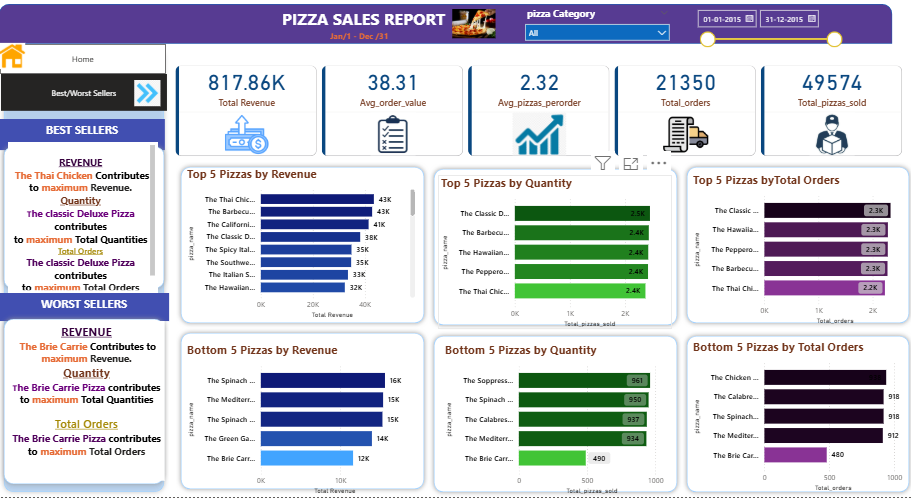

The dashboard page shown, as its layout file describes it:
{"tool":"powerbi","page":{"name":"Best/Worst  Sellers","canvas":[1500,820],"ordinal":1},"visuals":[{"type":"cardVisual","fields":{"Data":["pizza_sales.Total Revenue","pizza_sales.Avg_order_value","pizza_sales.Avg_pizzas_perorder","pizza_sales.Total_order","pizza_sales.Total_pizzas_sold"]},"box":[272.2,95.1,1228.4,183.7],"z":0},{"type":"shape","box":[0,11.2,1465,65],"z":1000},{"type":"textbox","box":[378.8,11.2,438.8,65],"z":2000},{"type":"textbox","box":[537.5,50,148.8,51.2],"z":3000},{"type":"image","box":[677.5,20,202.5,47.5],"z":4000},{"type":"shape","box":[290.3,270.6,414.9,272.2],"z":5000},{"type":"shape","box":[0,77.1,278.8,742.9],"z":6000},{"type":"textbox","box":[0,200.1,272.2,50.8],"z":7000},{"type":"shape","box":[0,237.8,278.8,247.6],"z":8000},{"type":"textbox","box":[14.8,237.8,246,247.6],"z":9000},{"type":"textbox","box":[0,485.4,278.8,45.9],"z":10000},{"type":"shape","box":[0,519.9,278.8,287],"z":11000},{"type":"textbox","box":[14.8,531.4,257.5,262.4],"z":12000},{"type":"slicer","fields":{"Values":["pizza_sales.pizza_category"]},"box":[852.8,11.5,257.5,64],"z":13000},{"type":"slicer","fields":{"Values":["pizza_sales.order_date"]},"box":[1133.2,11.5,257.5,83.6],"z":14000},{"type":"shape","box":[705.2,273.9,414.9,272.2],"z":15000},{"type":"shape","box":[1120.1,270.6,380.5,272.2],"z":16000},{"type":"shape","box":[290.3,542.8,414.9,272.2],"z":17000},{"type":"shape","box":[705.2,547.8,414.9,272.2],"z":18000},{"type":"shape","box":[1120.1,547.8,380.5,272.2],"z":19000},{"type":"barChart","title":"Top 5 Pizzas by Revenue","fields":{"Category":["pizza_sales.pizza_name"],"Y":["pizza_sales.Total Revenue"]},"box":[303.1,277.6,383.9,253.9],"z":20000},{"type":"barChart","title":"Bottom 5 Pizzas by Revenue","fields":{"Category":["pizza_sales.pizza_name"],"Y":["pizza_sales.Total Revenue"]},"box":[303.4,565.8,383.8,254.2],"z":21000},{"type":"barChart","title":"Top 5 Pizzas by Quantity","fields":{"Category":["pizza_sales.pizza_name"],"Y":["pizza_sales.Total_pizzas_sold"]},"box":[720.5,291.3,383.9,253.9],"z":22000},{"type":"barChart","title":"Bottom 5 Pizzas by Quantity","fields":{"Category":["pizza_sales.pizza_name"],"Y":["pizza_sales.Total_pizzas_sold"]},"box":[726.5,565.8,383.8,254.2],"z":23000},{"type":"barChart","title":"Top 5 Pizzas byTotal Orders","fields":{"Category":["pizza_sales.pizza_name"],"Y":["pizza_sales.Total_orders"]},"box":[1133.9,287.4,366.1,253.9],"z":24000},{"type":"barChart","title":"Bottom 5 Pizzas by Total Orders","fields":{"Category":["pizza_sales.pizza_name"],"Y":["pizza_sales.Total_orders"]},"box":[1133.9,561,366.1,253.9],"z":25000},{"type":"pageNavigator","box":[1.6,77.1,272.2,49.2],"z":26000},{"type":"pageNavigator","box":[3.3,126.3,272.2,60.7],"z":27000},{"type":"image","box":[0,67.2,42.6,59],"z":27001},{"type":"image","box":[196.8,136.1,93.5,42.6],"z":27002}]}

Visuals, with their boxes in screenshot pixels (x1, y1, x2, y2), scaled from the page's 1500x820 canvas onto the 911x498 screenshot:
cardVisual - pizza_sales.Total Revenue x pizza_sales.Avg_order_value: region(165, 58, 910, 169)
shape: region(0, 7, 890, 46)
textbox: region(230, 7, 497, 46)
textbox: region(326, 30, 417, 61)
image: region(411, 12, 534, 41)
shape: region(176, 164, 428, 330)
shape: region(0, 47, 169, 497)
textbox: region(0, 122, 165, 152)
shape: region(0, 144, 169, 295)
textbox: region(9, 144, 158, 295)
textbox: region(0, 295, 169, 323)
shape: region(0, 316, 169, 490)
textbox: region(9, 323, 165, 482)
slicer - pizza_sales.pizza_category: region(518, 7, 674, 46)
slicer - pizza_sales.order_date: region(688, 7, 845, 58)
shape: region(428, 166, 680, 332)
shape: region(680, 164, 910, 330)
shape: region(176, 330, 428, 495)
shape: region(428, 333, 680, 497)
shape: region(680, 333, 910, 497)
"Top 5 Pizzas by Revenue" barChart: region(184, 169, 417, 323)
"Bottom 5 Pizzas by Revenue" barChart: region(184, 344, 417, 497)
"Top 5 Pizzas by Quantity" barChart: region(438, 177, 671, 331)
"Bottom 5 Pizzas by Quantity" barChart: region(441, 344, 674, 497)
"Top 5 Pizzas byTotal Orders" barChart: region(689, 175, 910, 329)
"Bottom 5 Pizzas by Total Orders" barChart: region(689, 341, 910, 495)
pageNavigator: region(1, 47, 166, 77)
pageNavigator: region(2, 77, 167, 114)
image: region(0, 41, 26, 77)
image: region(120, 83, 176, 109)
